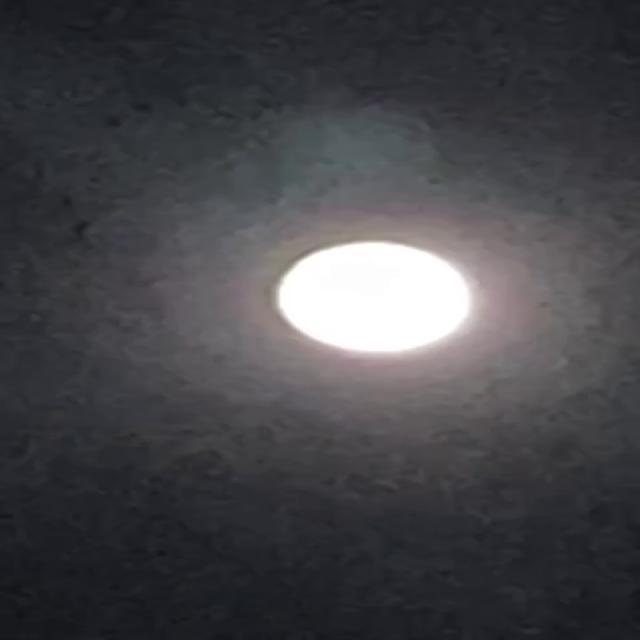moon: (272, 230, 499, 350)
